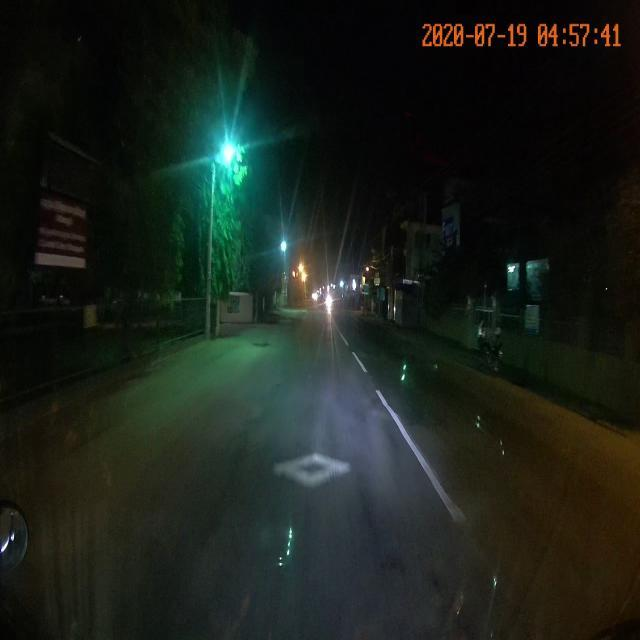diamond: (167, 446, 448, 495)
